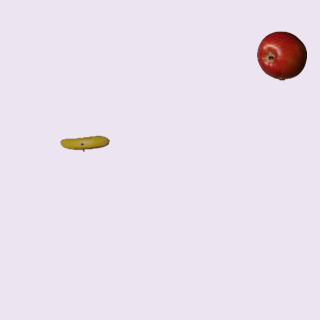Apple Braeburn: (256, 30, 306, 80)
Banana: (59, 118, 109, 168)
